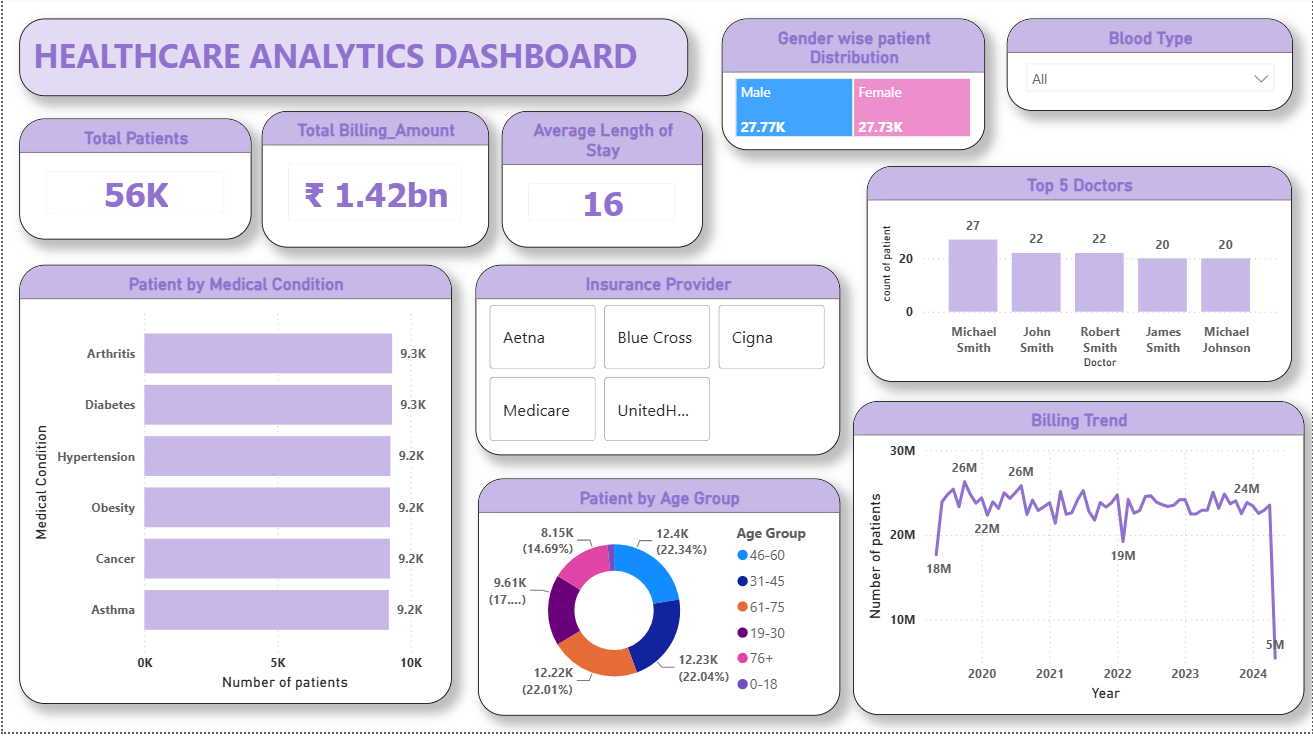

The page's visual inventory and layout, read from the dashboard file:
{"tool":"powerbi","page":{"name":"Page 1","canvas":[1280,720],"ordinal":0},"visuals":[{"type":"cardVisual","title":"Total Patients","fields":{"Data":["healthcare_dataset.Total_patient"]},"box":[15.9,119.8,227.4,118.6],"z":0},{"type":"treemap","title":"Gender wise patient Distribution","fields":{"Group":["healthcare_dataset.Gender"],"Values":["CountNonNull(healthcare_dataset.Name)"]},"box":[702.6,22,258,129],"z":1000},{"type":"slicer","title":"Blood Type","fields":{"Values":["healthcare_dataset.Blood Type"]},"box":[981.9,22,280,90.5],"z":2000},{"type":"advancedSlicerVisual","fields":{"Values":["healthcare_dataset.Insurance Provider"]},"box":[462.4,263.5,356.8,186.6],"z":3000},{"type":"cardVisual","title":"Total Billing_Amount","fields":{"Data":["healthcare_dataset.Total_BillingAmount"]},"box":[253.1,112.5,222.6,133.3],"z":4000},{"type":"clusteredBarChart","title":"Patient by Medical Condition","fields":{"Category":["healthcare_dataset.Medical Condition"],"Y":["CountNonNull(healthcare_dataset.Name)"]},"box":[15.9,262.9,423.1,429.2],"z":5000},{"type":"donutChart","title":"Patient by Age Group","fields":{"Category":["healthcare_dataset.Age Group"],"Y":["CountNonNull(healthcare_dataset.Name)"]},"box":[465.2,472,354,231.9],"z":6000},{"type":"lineChart","title":"Billing Trend","fields":{"Y":["healthcare_dataset.Total_BillingAmount"],"Category":["healthcare_dataset.Date of Admission.Variation.Date Hierarchy.Year","healthcare_dataset.Date of Admission.Variation.Date Hierarchy.Month"]},"box":[831.5,396.2,441.4,306.9],"z":7000},{"type":"cardVisual","title":"Average Length of Stay","fields":{"Data":["healthcare_dataset.avg stay"]},"box":[487.9,112.5,196.9,133.3],"z":8000},{"type":"textbox","box":[15.9,22,654.2,75.8],"z":9000},{"type":"clusteredColumnChart","title":"Top 5 Doctors","fields":{"Y":["CountNonNull(healthcare_dataset.Name)"],"Category":["healthcare_dataset.Doctor"]},"box":[845.3,166,415.8,211.3],"z":10000}]}

Visuals, with their boxes in screenshot pixels (x1, y1, x2, y2), scaled from the page's 1280x720 canvas onto the 1313x737 screenshot:
"Total Patients" cardVisual: [left=16, top=123, right=250, bottom=244]
"Gender wise patient Distribution" treemap: [left=721, top=23, right=985, bottom=155]
"Blood Type" slicer: [left=1007, top=23, right=1294, bottom=115]
advancedSlicerVisual - healthcare_dataset.Insurance Provider: [left=474, top=270, right=840, bottom=461]
"Total Billing_Amount" cardVisual: [left=260, top=115, right=488, bottom=252]
"Patient by Medical Condition" clusteredBarChart: [left=16, top=269, right=450, bottom=708]
"Patient by Age Group" donutChart: [left=477, top=483, right=840, bottom=721]
"Billing Trend" lineChart: [left=853, top=406, right=1306, bottom=720]
"Average Length of Stay" cardVisual: [left=500, top=115, right=702, bottom=252]
textbox: [left=16, top=23, right=687, bottom=100]
"Top 5 Doctors" clusteredColumnChart: [left=867, top=170, right=1294, bottom=386]
